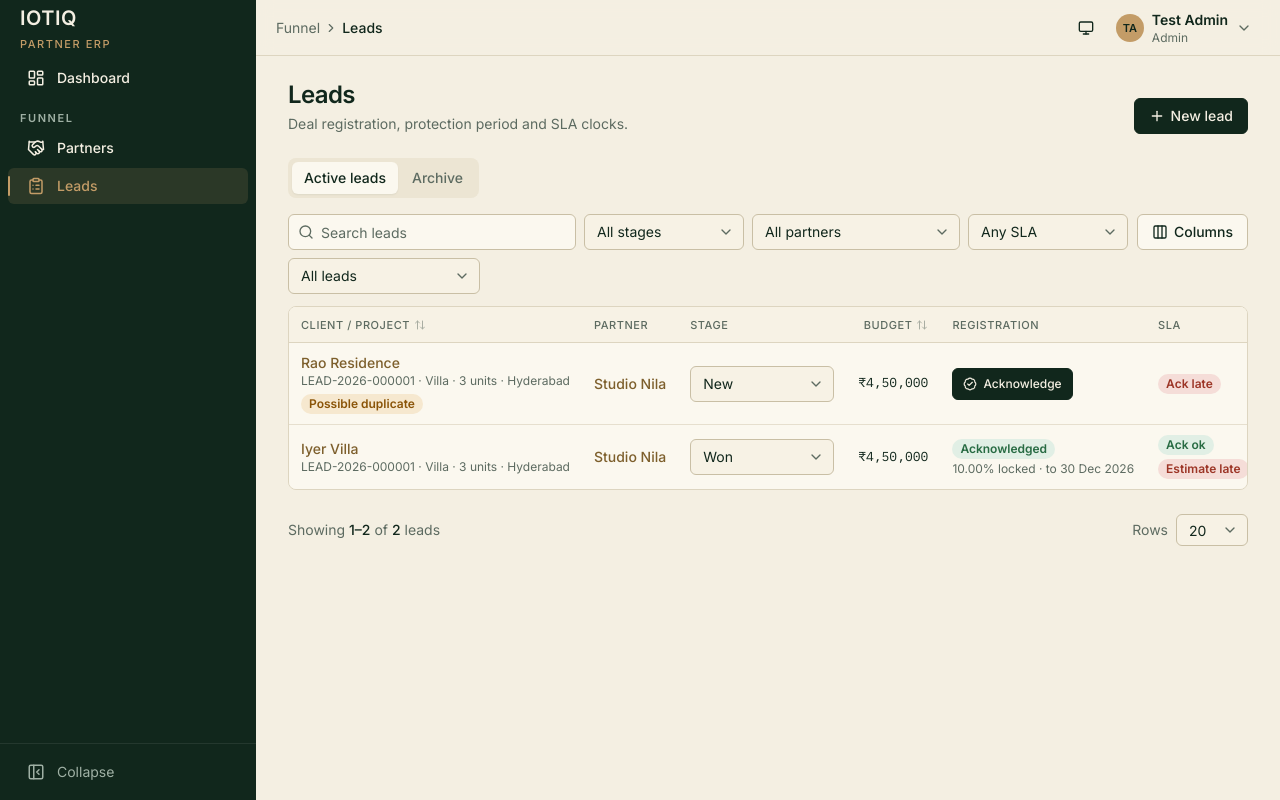
Test: lead list › asks for a reason before reopening a closed lead
This screenshot has width=1280, height=800.
Later steps or results of the test are not shown.
Select "Negotiation" in the dropdown named "Stage for Iyer Villa" at x=762, y=457, box [690,439,834,475]
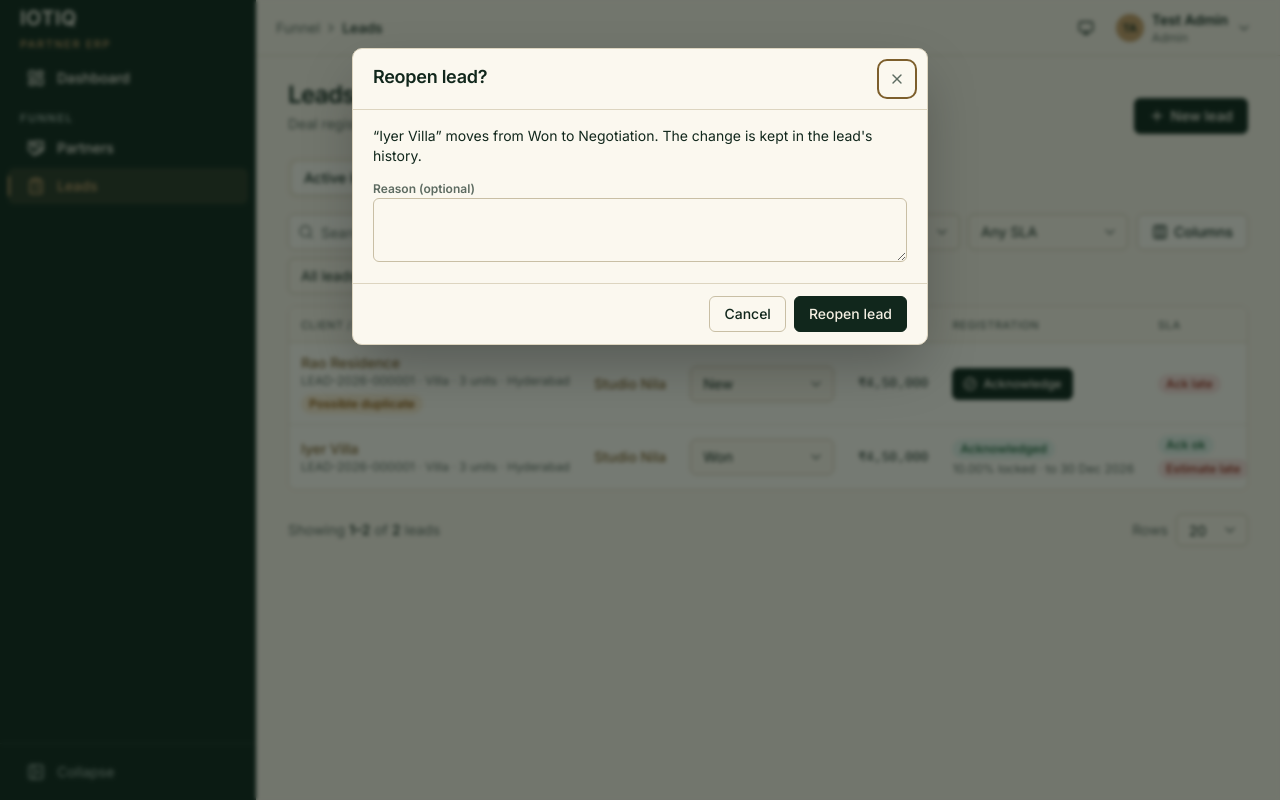
Now the text "moves from Won to Negotiation" is shown, box [373,126,907,166]
